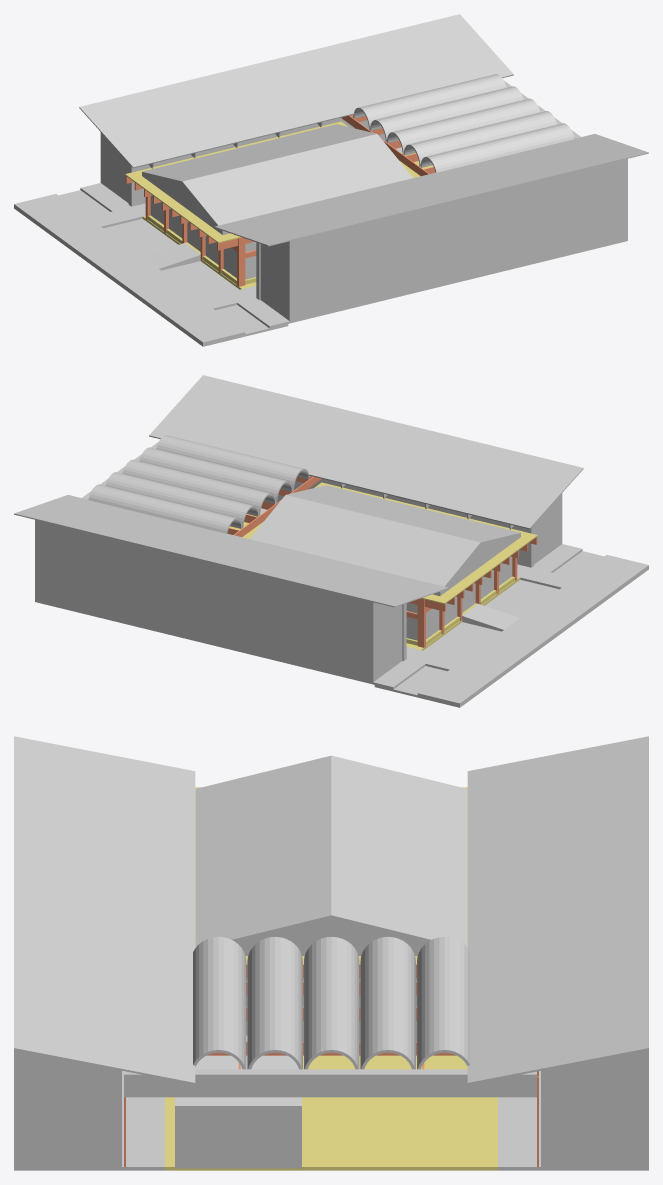
3 views of the same model, one above another, from view 1: azimuth 30°, elevation 25°; view 2: azimuth 150°, elevation 25°; view 3: azimuth 270°, elevation 25° (orthographic). The views are drawn at different scales.
Parts seen in each view (by area): view 1: shop surround, existing roof side, Plane.022, exist-road, Plane.042, existing roof side.001, Plane.034, exist-demo-floor, Plane.039, exist-con-column01, existing truss roof3, existing column (+2 smaller); view 2: shop surround, existing roof side, Plane.022, exist-road, Plane.042, existing roof side.001, Plane.034, exist-demo-floor, Plane.039, exist-con-column01, existing truss roof3, existing column (+3 smaller); view 3: existing roof side, Plane.022, Plane.042, shop surround, existing roof side.001, floor 1st structure.001, Plane.038, Plane.037, existing column, existing truss roof3.
Boxes of the visible parts, x1,y1,x2,y2 form: shop surround: [80, 117, 627, 328]; existing roof side: [79, 14, 648, 248]; Plane.022: [142, 124, 412, 234]; exist-road: [14, 190, 288, 346]; Plane.042: [353, 74, 574, 172]; existing roof side.001: [124, 64, 603, 230]; Plane.034: [150, 195, 256, 279]; exist-demo-floor: [125, 138, 274, 243]; Plane.039: [143, 243, 200, 270]; exist-con-column01: [145, 196, 245, 286]; existing truss roof3: [341, 114, 435, 175]; existing column: [128, 119, 385, 300]; shop surround: [35, 478, 582, 689]; existing roof side: [14, 375, 583, 609]; Plane.022: [250, 485, 520, 595]; exist-road: [374, 551, 648, 707]; Plane.042: [88, 435, 309, 533]; existing roof side.001: [59, 425, 538, 591]; Plane.034: [406, 556, 512, 640]; exist-demo-floor: [421, 530, 537, 604]; Plane.039: [462, 604, 519, 631]; exist-con-column01: [417, 557, 517, 647]; existing truss roof3: [227, 475, 321, 536]; existing column: [277, 480, 534, 661]; existing roof side: [14, 736, 648, 1078]; Plane.022: [195, 755, 467, 955]; Plane.042: [193, 936, 470, 1069]; shop surround: [14, 1050, 648, 1170]; existing roof side.001: [165, 765, 497, 1084]; floor 1st structure.001: [165, 1055, 497, 1170]; Plane.038: [124, 1069, 536, 1097]; Plane.037: [175, 1035, 301, 1168]; existing column: [111, 1069, 551, 1167]; existing truss roof3: [124, 964, 538, 1166].
Size of the model in its own units: 42.3 by 7.76 by 31.07.
